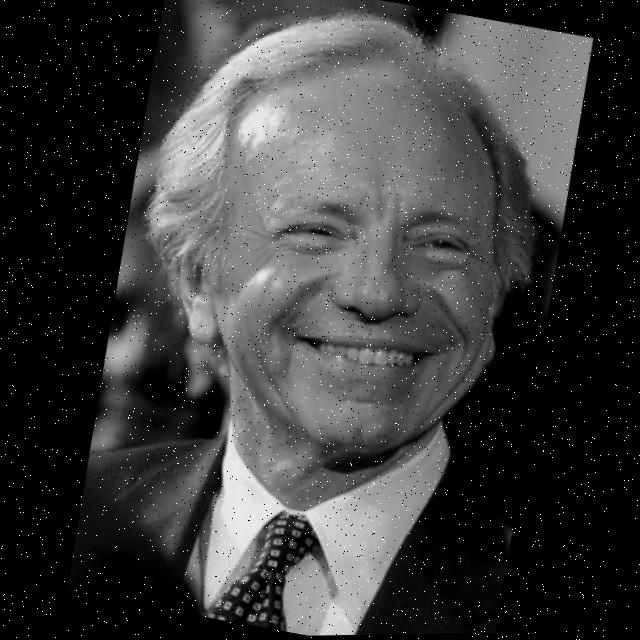face: (130, 16, 568, 495)
